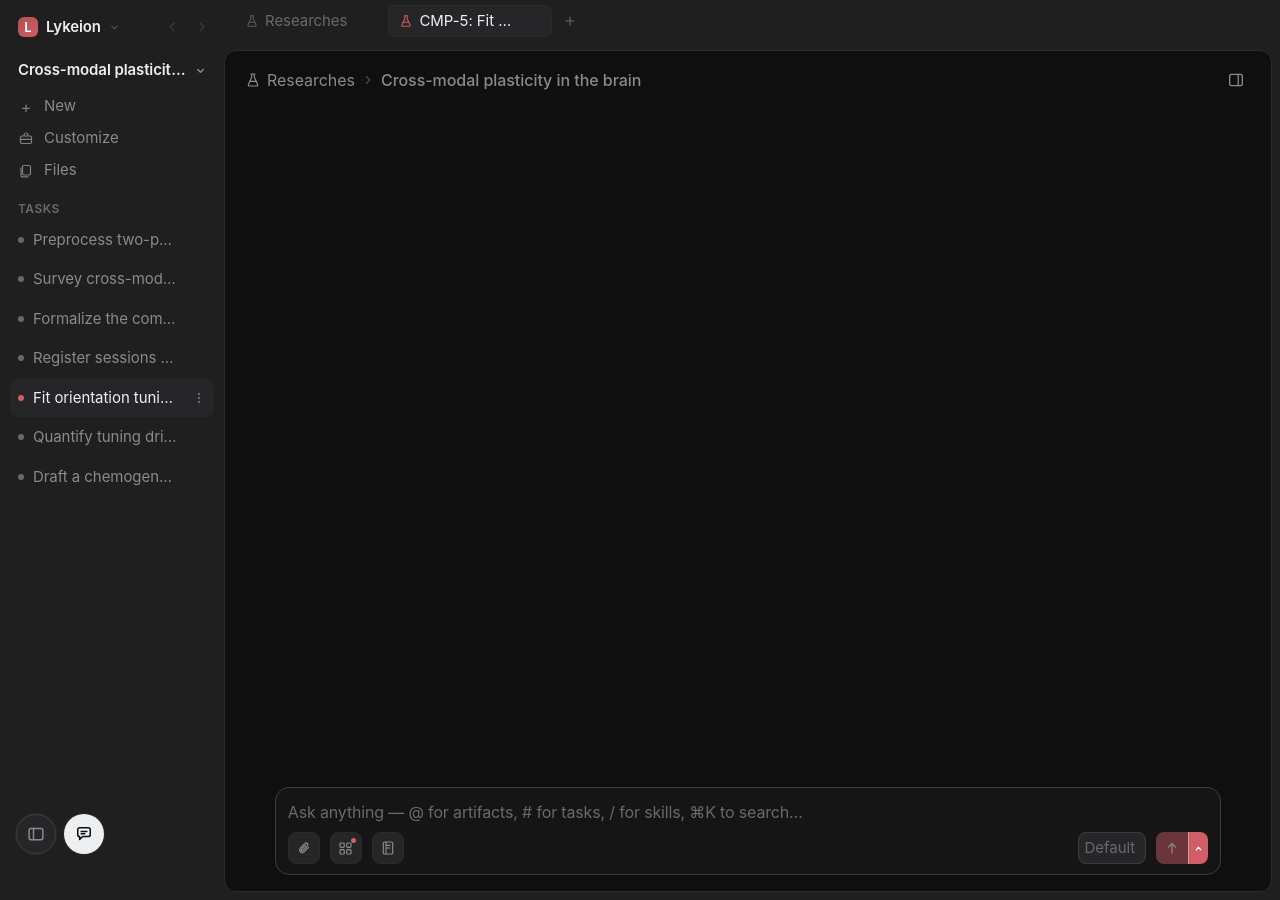
a Task with nothing said in it yet › 'Plan first' from the send menu opts into a plan-mode run
Type "go" into the text box named "Message the agent" at (748, 812), box [288, 800, 1208, 824]
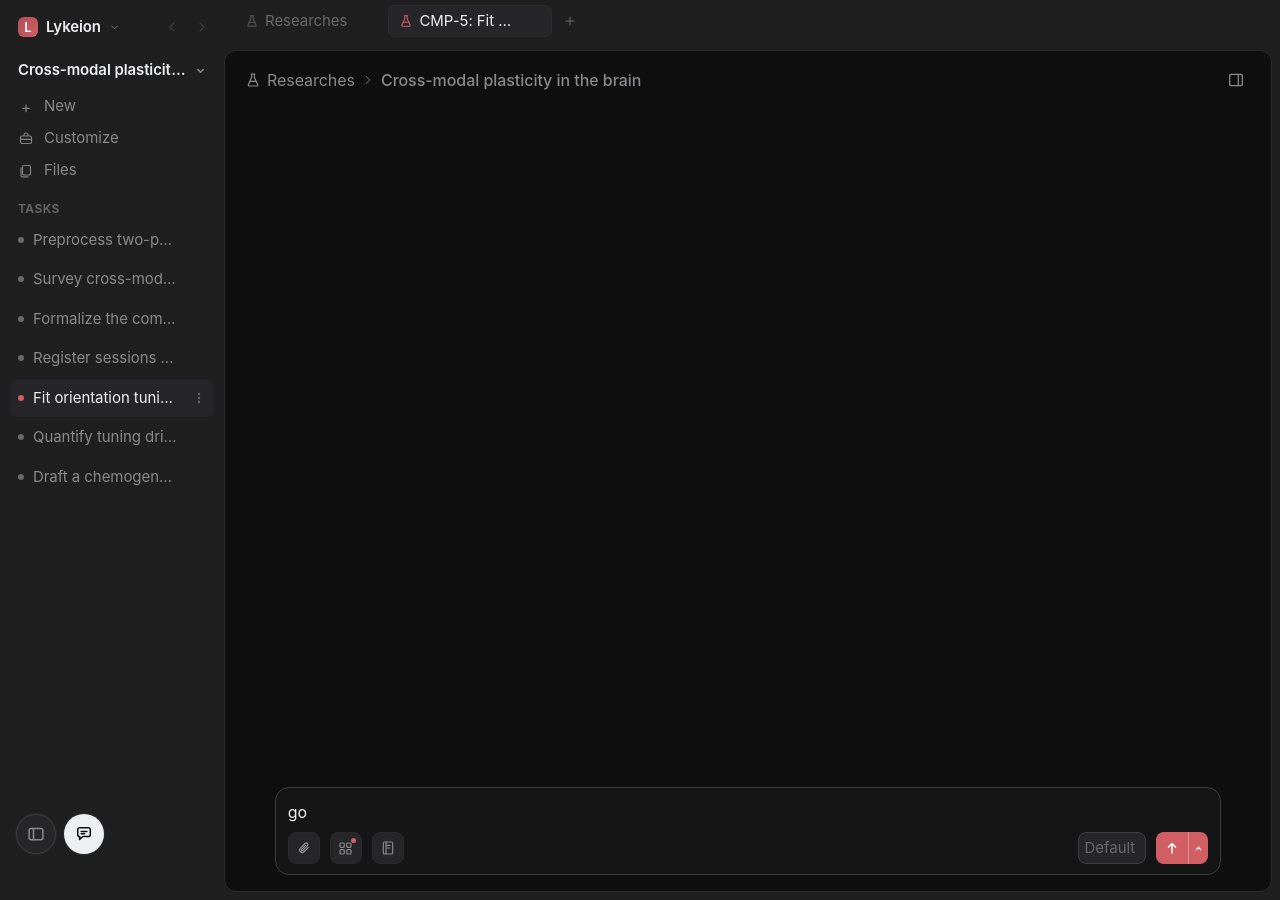
Click the button named "Send options" at (1198, 848), box [1188, 832, 1208, 864]
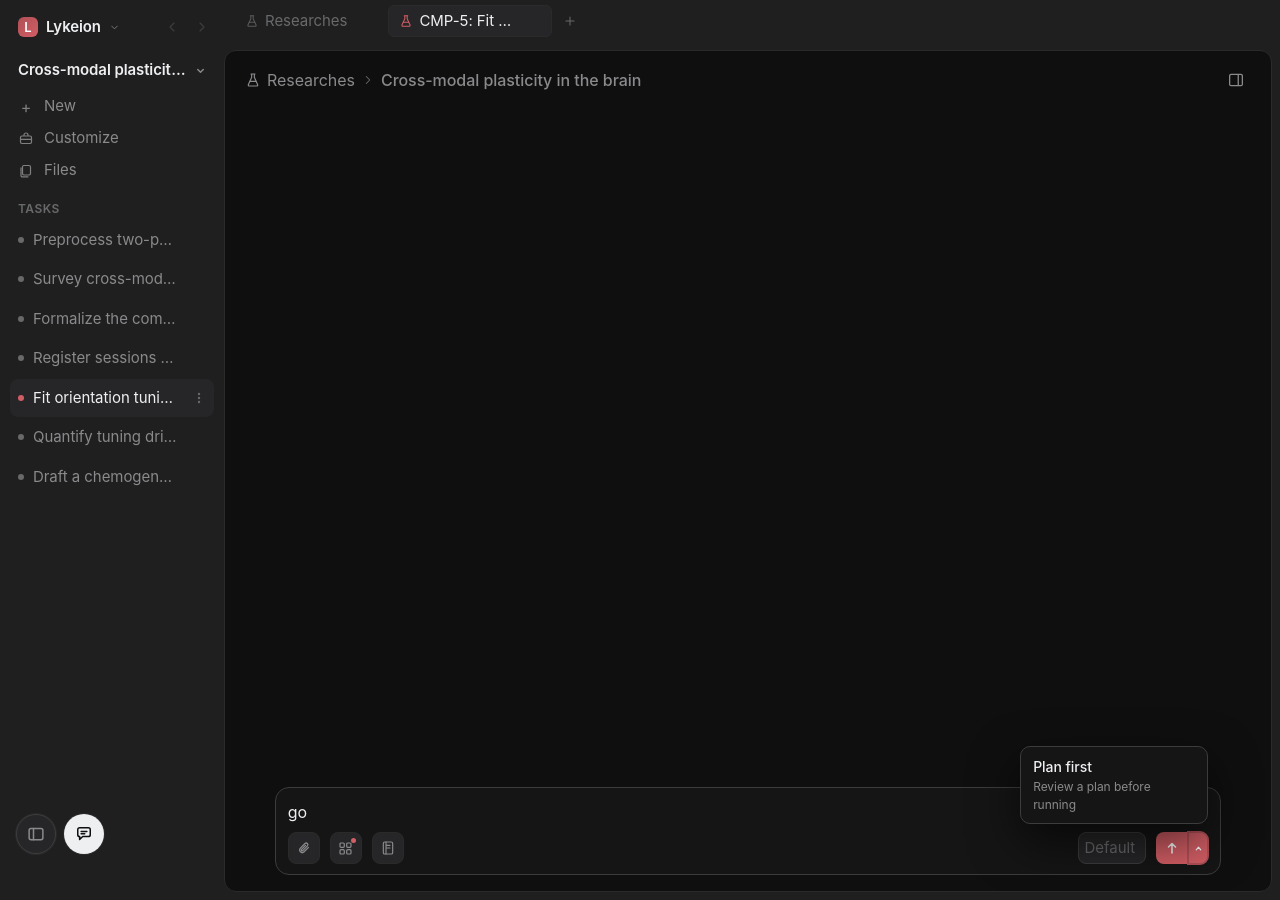
Click the button "Plan first Review a plan before running" at (1114, 785), box [1025, 751, 1203, 819]
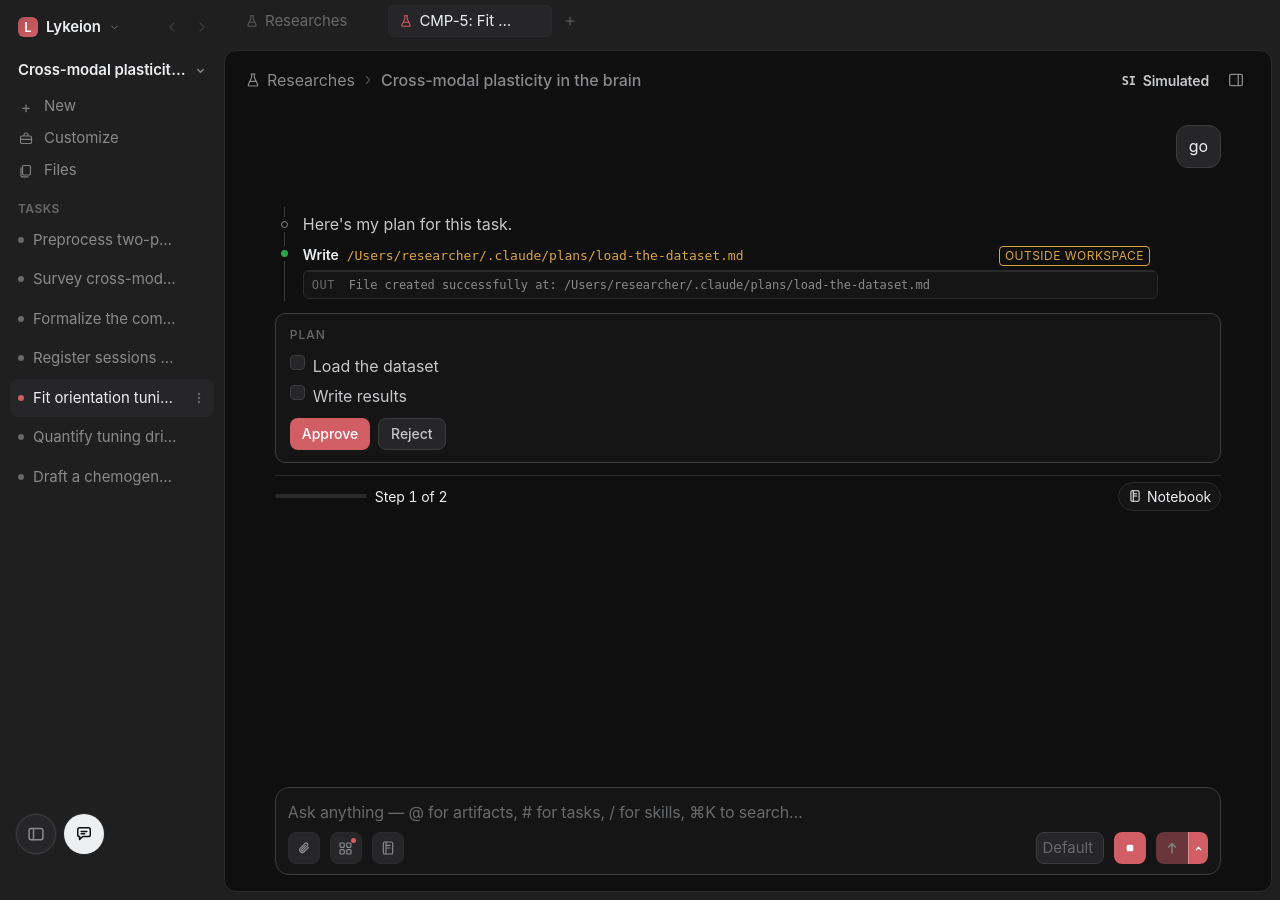
Result: the button "Approve" is shown at [290, 418, 370, 450]
